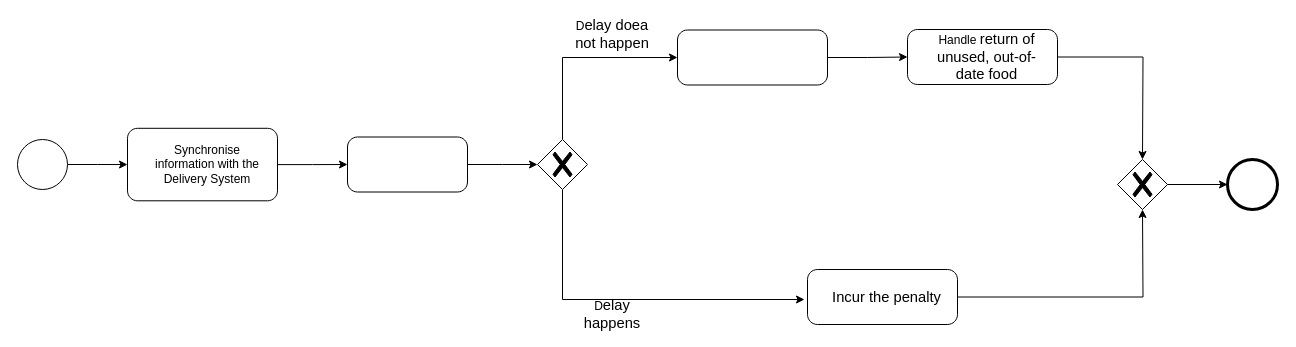
This 1296x347 diagram has some shape labels left out. Here are the shapes that lost their labels. From the top down, the centre of each, then its label:
the point at 752,57: Arrange f ood trollies
the point at 407,164: Record flight details
